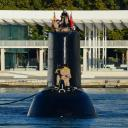submarine: (24, 4, 100, 119)
